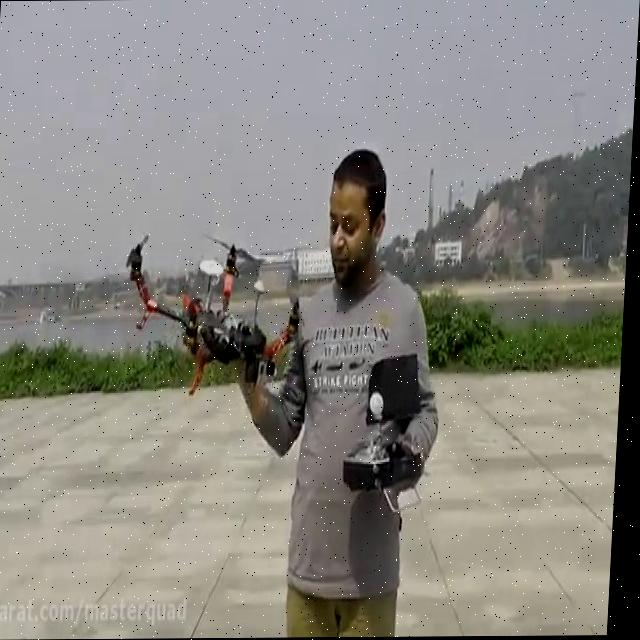drone: (119, 225, 315, 400)
